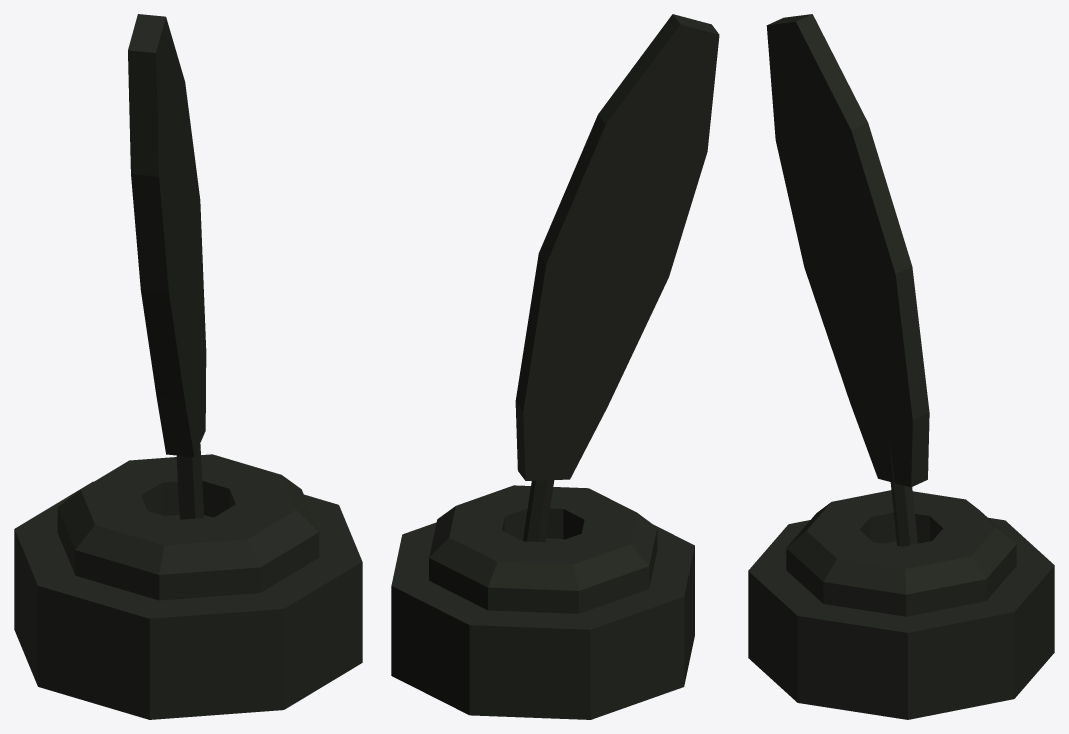
The model's file is pen.fbx.
3 views of the same model, side by side, from view 1: azimuth 30°, elevation 25°; view 2: azimuth 150°, elevation 25°; view 3: azimuth 270°, elevation 25° (orthographic). The views are drawn at different scales.
Parts seen in each view (by area): view 1: pen; view 2: pen; view 3: pen.
Boxes of the visible parts, x1,y1,x2,y2 form: pen: (14, 14, 362, 719); pen: (391, 14, 719, 719); pen: (748, 14, 1054, 719).
Bounding box in the file's own units: 29.26 × 62.99 × 29.26.
